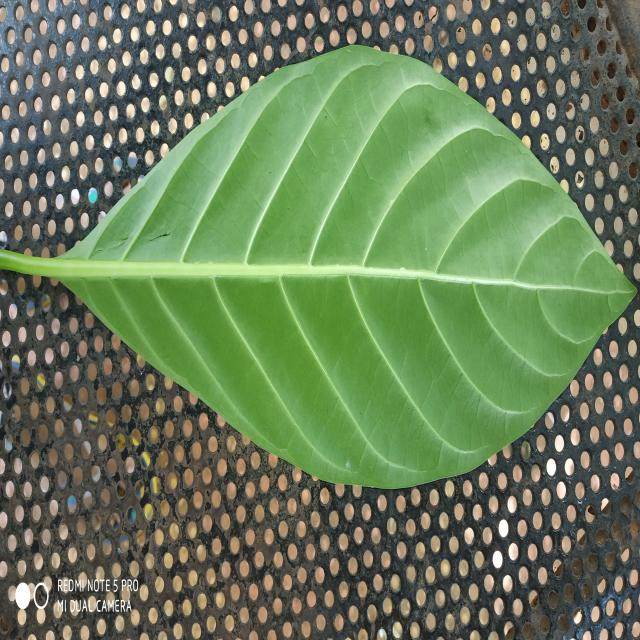nooni: (0, 47, 635, 487)
